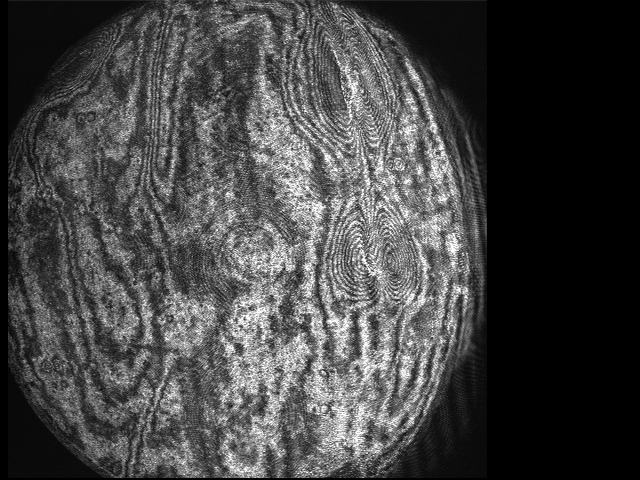plume: (331, 208, 417, 307)
